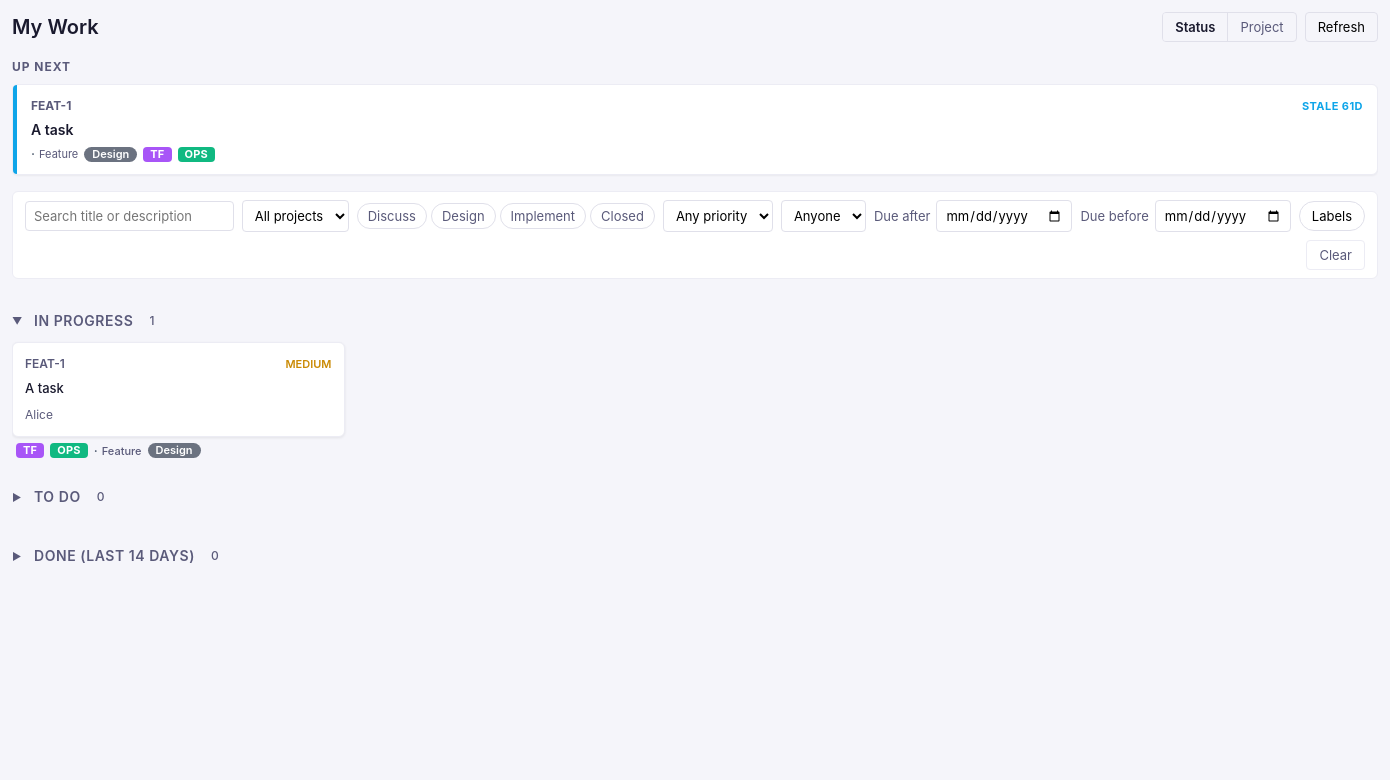
Test case: MyWorkView › shows a multi-project task under each of its projects in project mode
Step 1. Click the button with test id "my-work-toggle-project" → click(1262, 27), box [1227,13,1296,41]
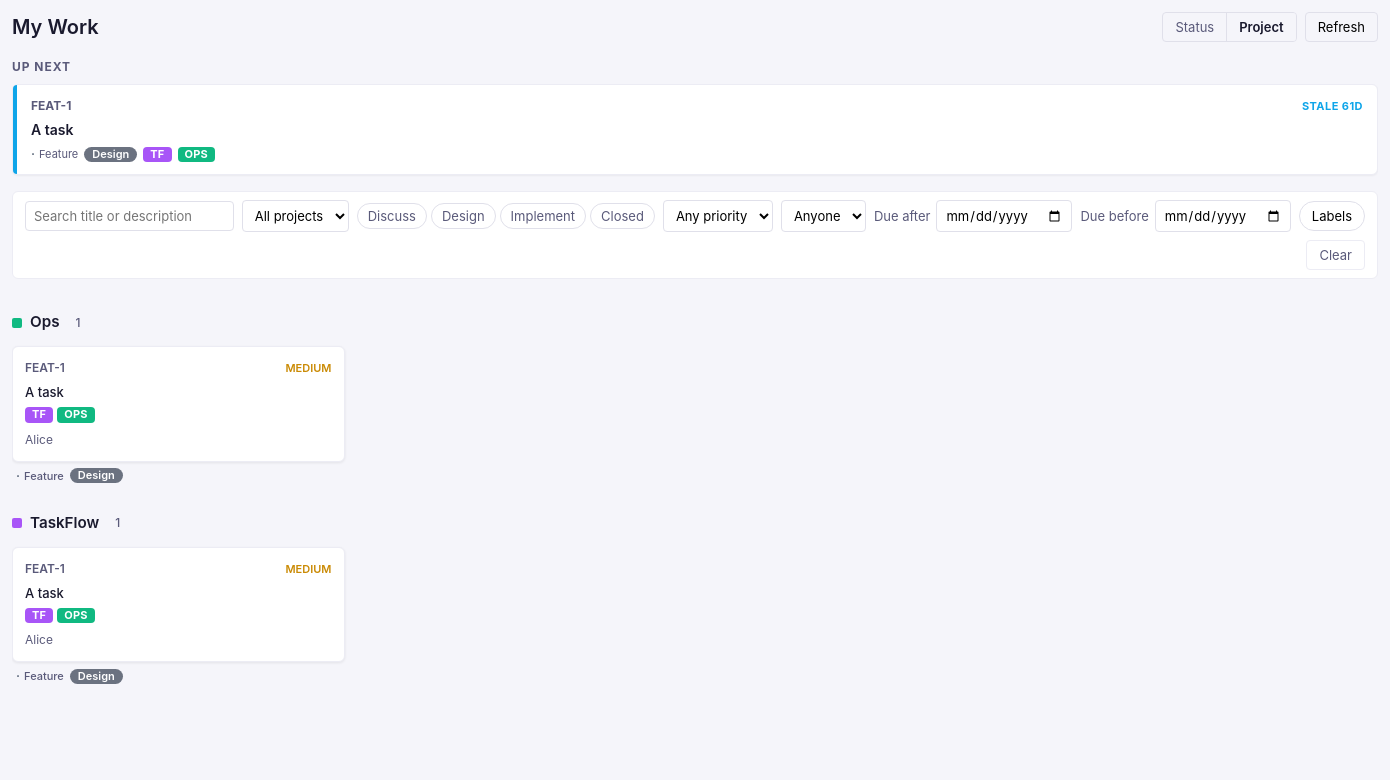
Expected: the list item with test id "my-work-card-TF-FEAT-1" is shown, [12,547,344,685]
Expected: the list item with test id "my-work-card-OPS-FEAT-1" is shown, [12,346,344,484]
